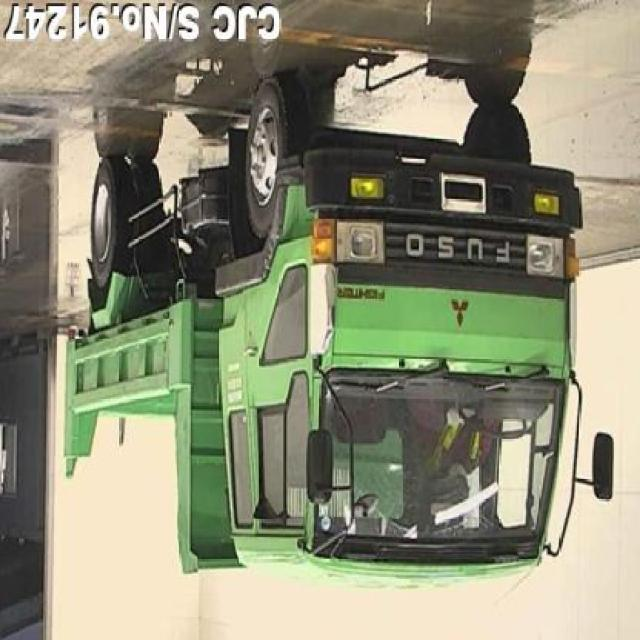truck: (62, 77, 618, 591)
